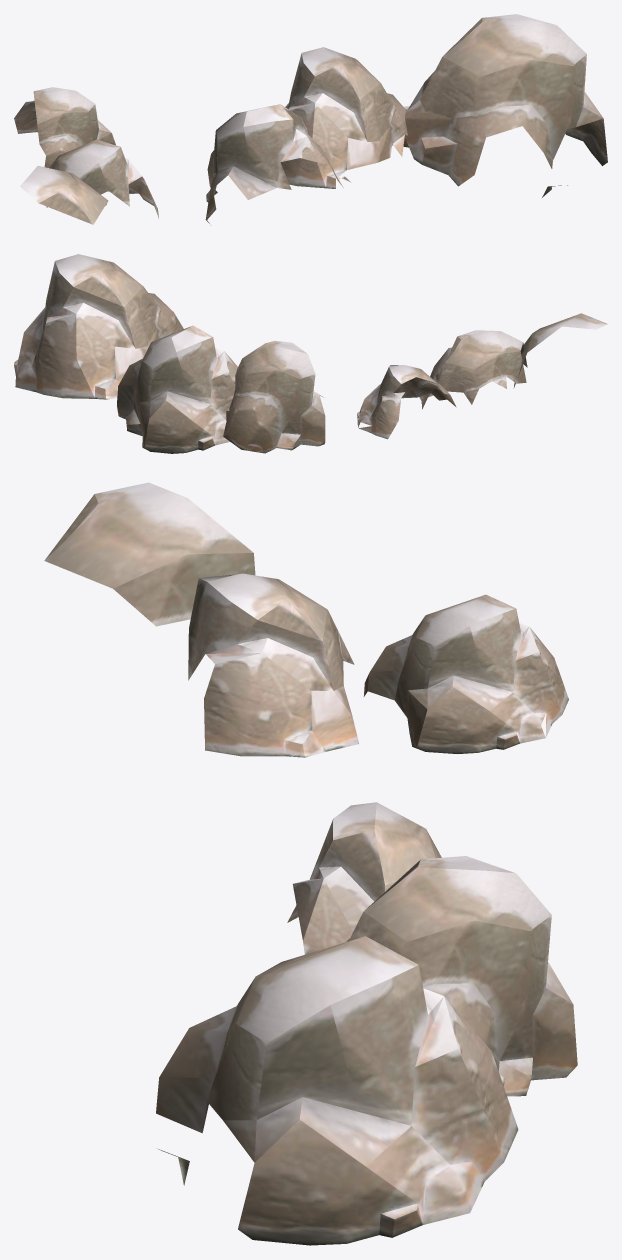
The model's file is pref_sm_beach_bk_winter_pointmol_rock_L01_lv0.fbx.
3 views of the same model, one above another, from view 1: azimuth 30°, elevation 25°; view 2: azimuth 150°, elevation 25°; view 3: azimuth 270°, elevation 25° (orthographic). The views are drawn at different scales.
Parts seen in each view (by area): view 1: pref_sm_beach_bk_winter_pointmol_rock_L01_lv0; view 2: pref_sm_beach_bk_winter_pointmol_rock_L01_lv0; view 3: pref_sm_beach_bk_winter_pointmol_rock_L01_lv0.
Part boxes in pixels (<box>): pref_sm_beach_bk_winter_pointmol_rock_L01_lv0: <box>14,14,607,224</box>; pref_sm_beach_bk_winter_pointmol_rock_L01_lv0: <box>14,254,607,453</box>; pref_sm_beach_bk_winter_pointmol_rock_L01_lv0: <box>44,482,577,1245</box>.
Size of the model in its own units: 19.32 by 4.65 by 8.5.
